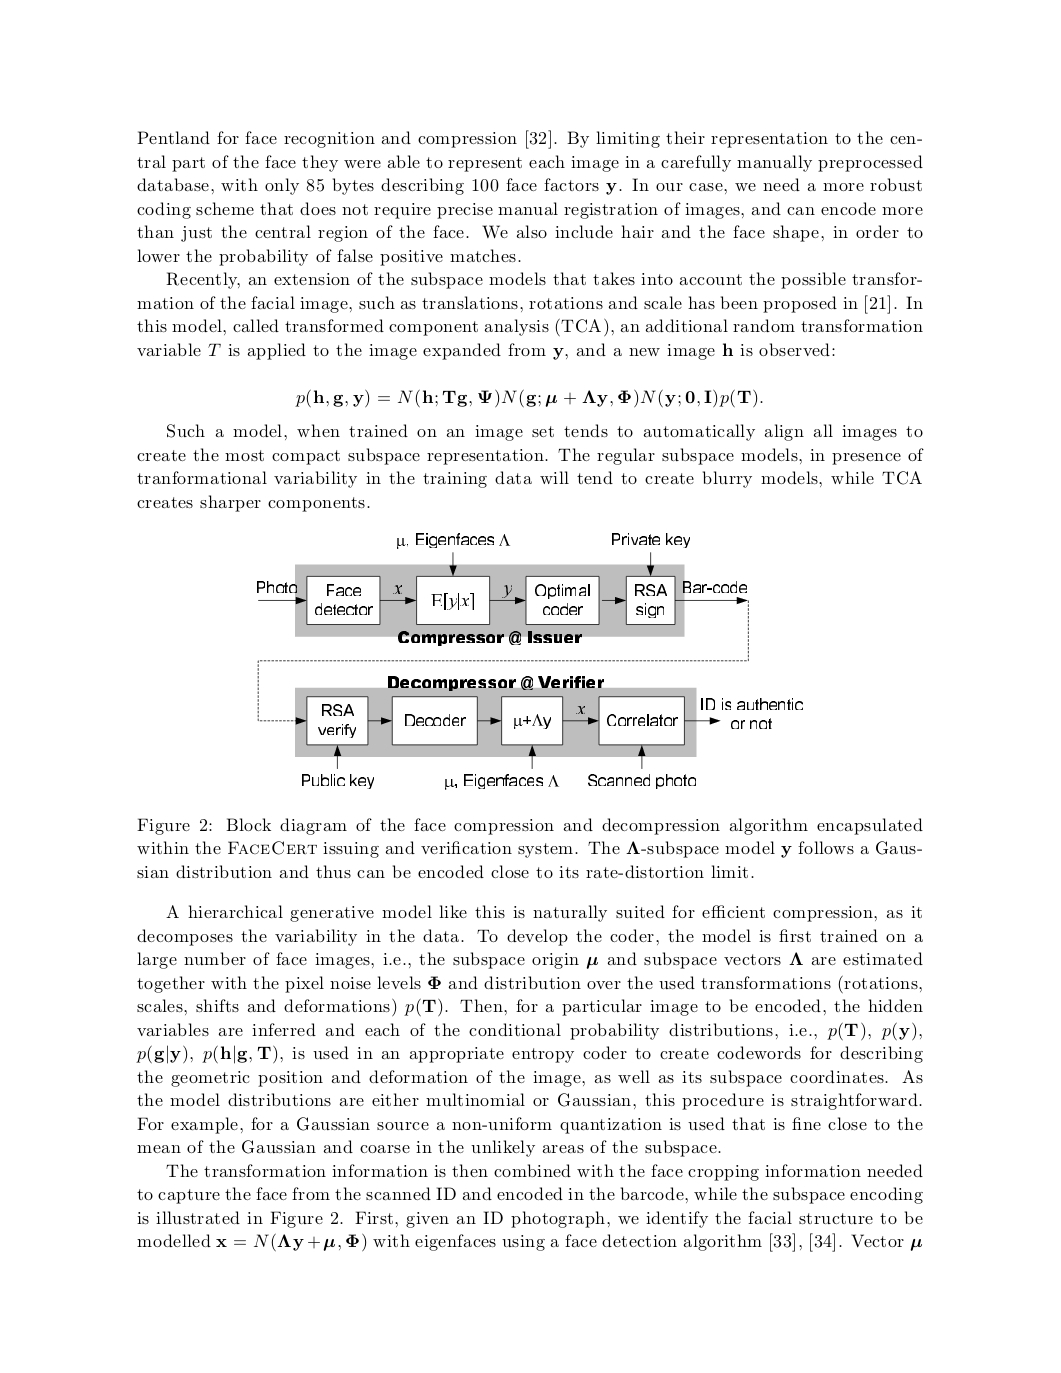figure: (257, 533, 802, 789)
formula: (295, 388, 762, 408)
